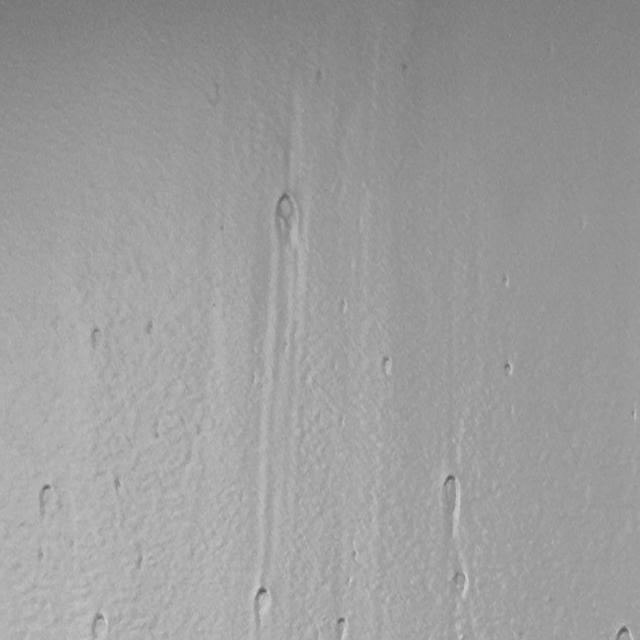pin holes: (270, 189, 307, 254), (434, 473, 466, 535), (250, 588, 272, 626), (34, 480, 57, 516), (88, 609, 111, 640), (450, 569, 471, 597), (87, 324, 107, 352), (332, 616, 352, 640), (497, 272, 515, 295), (378, 356, 394, 380), (502, 360, 517, 382), (612, 625, 636, 638), (313, 63, 323, 94), (112, 474, 125, 496), (142, 320, 156, 340), (399, 60, 413, 80), (628, 406, 638, 424)
